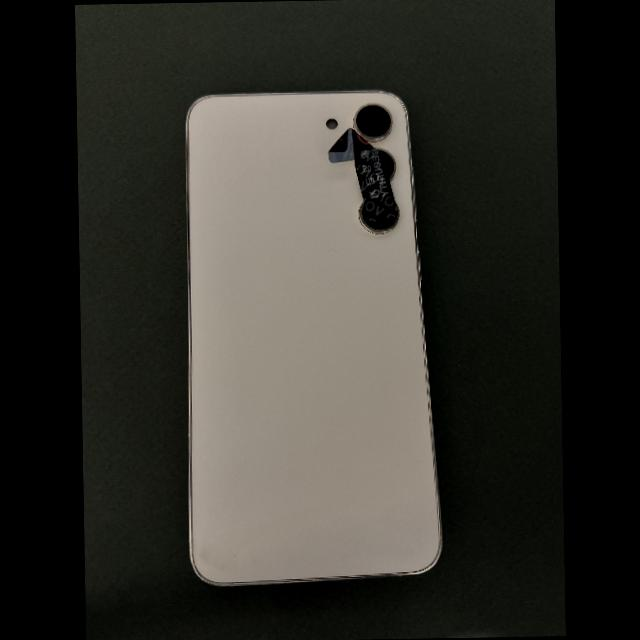lens: (353, 103, 393, 140), (360, 204, 399, 232), (377, 149, 394, 181)
phone: (186, 91, 441, 585)
sticker: (328, 127, 400, 224)
